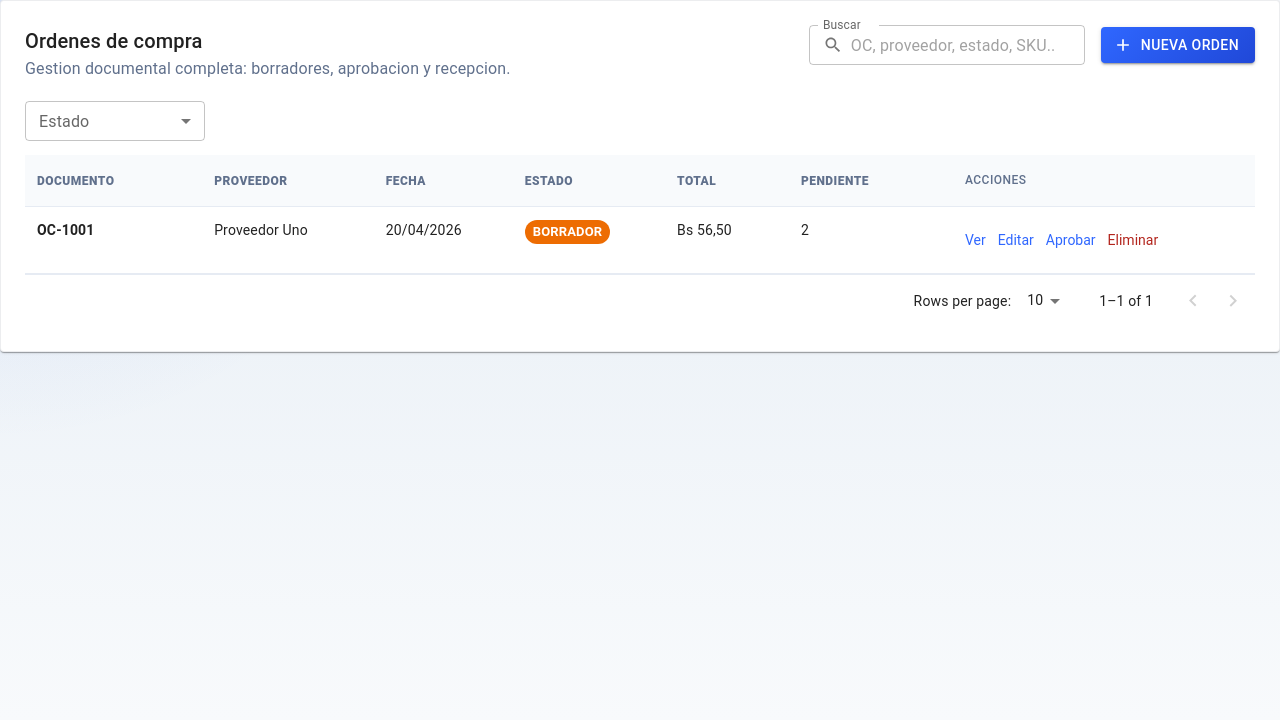
Test: OrdenesScreen UI › maneja errores al aprobar y eliminar una orden
This screenshot has width=1280, height=720.
Click the button "Aprobar" at point(1071, 240), box [1046,220,1096,260]
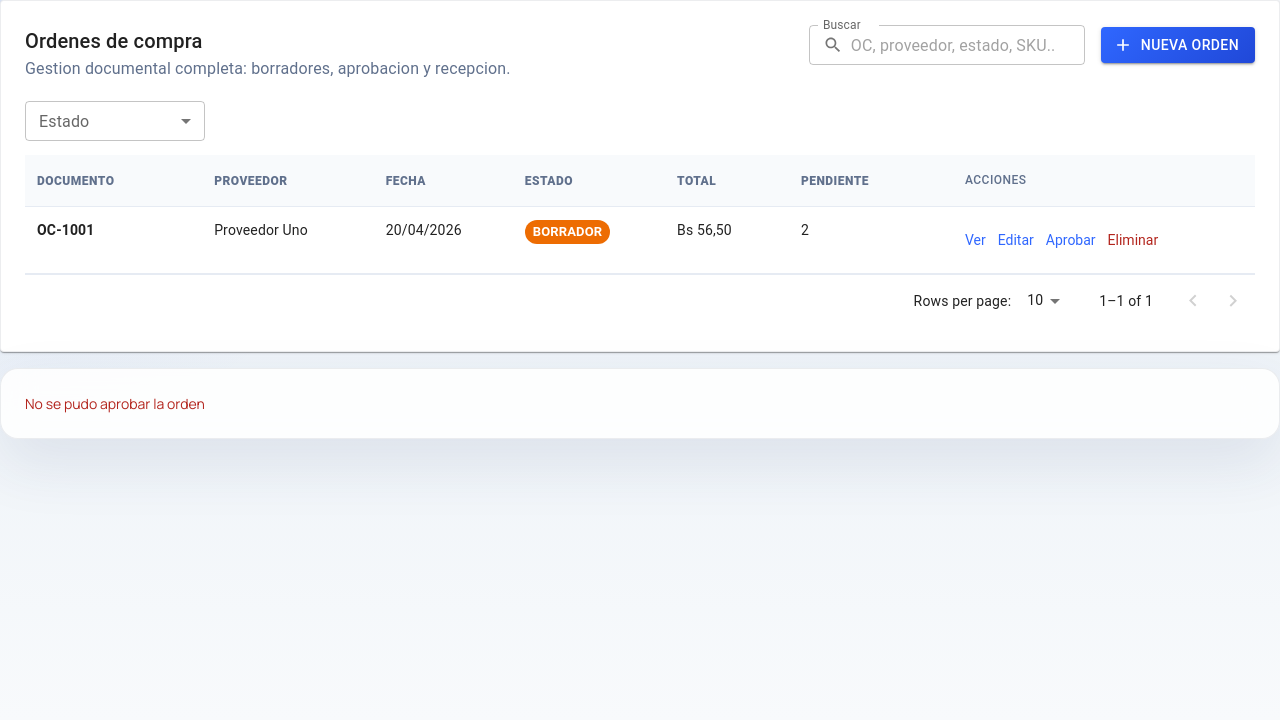
Expected: the text "No se pudo aprobar la orden" is shown, [25,394,205,413]
Click the button "Eliminar" at point(1133, 240), box [1108,220,1158,260]
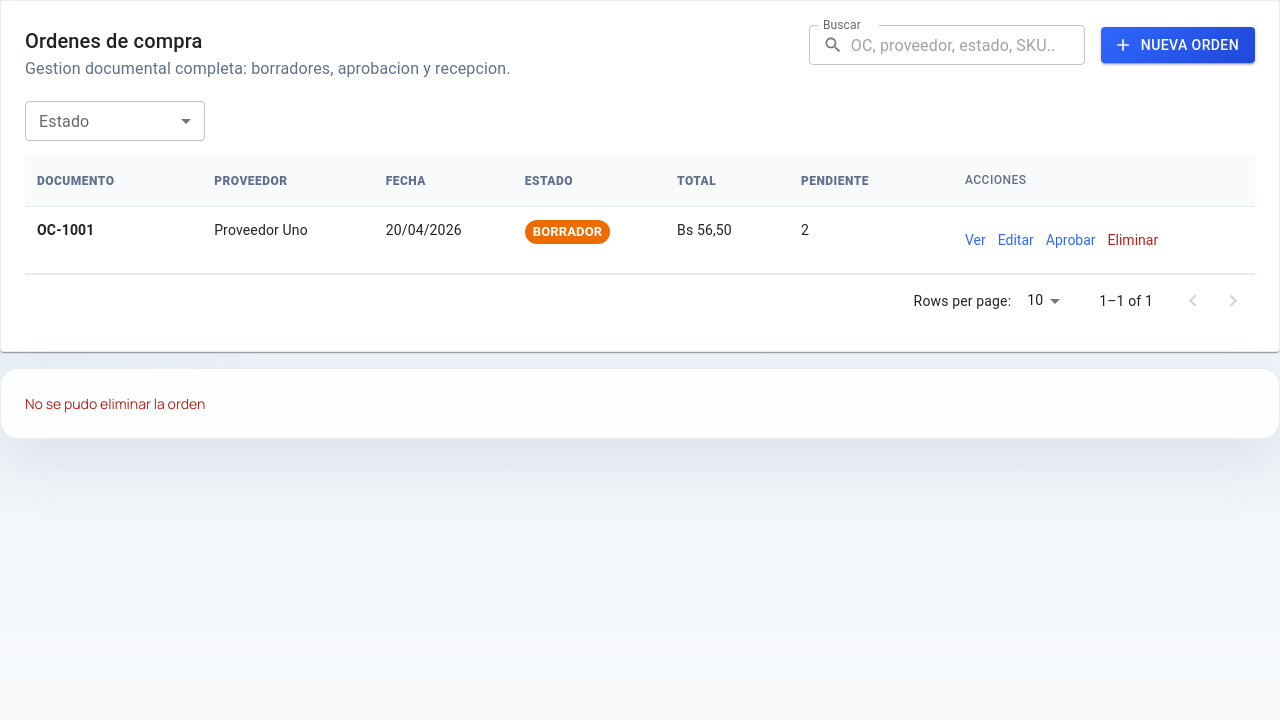
Expected: the text "No se pudo eliminar la orden" is shown, [25,394,205,413]
